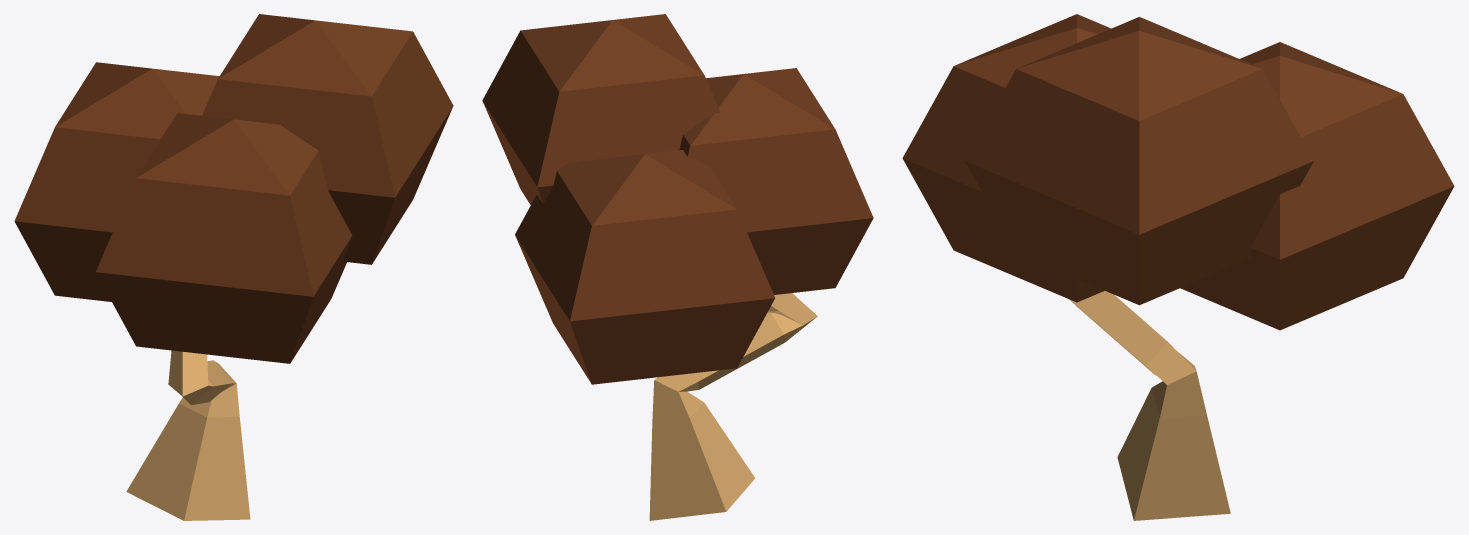
The model's file is Arvore pequena.fbx.
3 views of the same model, side by side, from view 1: azimuth 30°, elevation 25°; view 2: azimuth 150°, elevation 25°; view 3: azimuth 270°, elevation 25° (orthographic). The views are drawn at different scales.
Parts seen in each view (by area): view 1: Cube; view 2: Cube; view 3: Cube.
Part boxes in pixels (left/top/right/bottom): Cube: left=14, top=14, right=453, bottom=520; Cube: left=482, top=14, right=873, bottom=520; Cube: left=902, top=14, right=1454, bottom=520.
Size of the model in its own units: 147 by 175 by 166.
